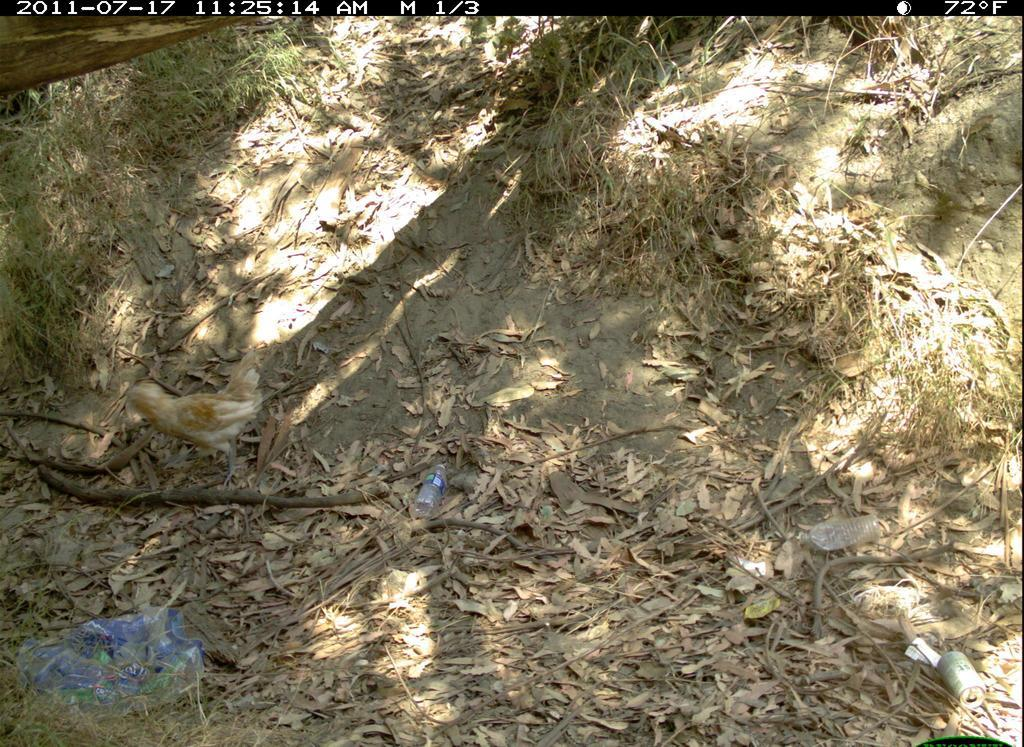bird: (125, 344, 265, 491)
